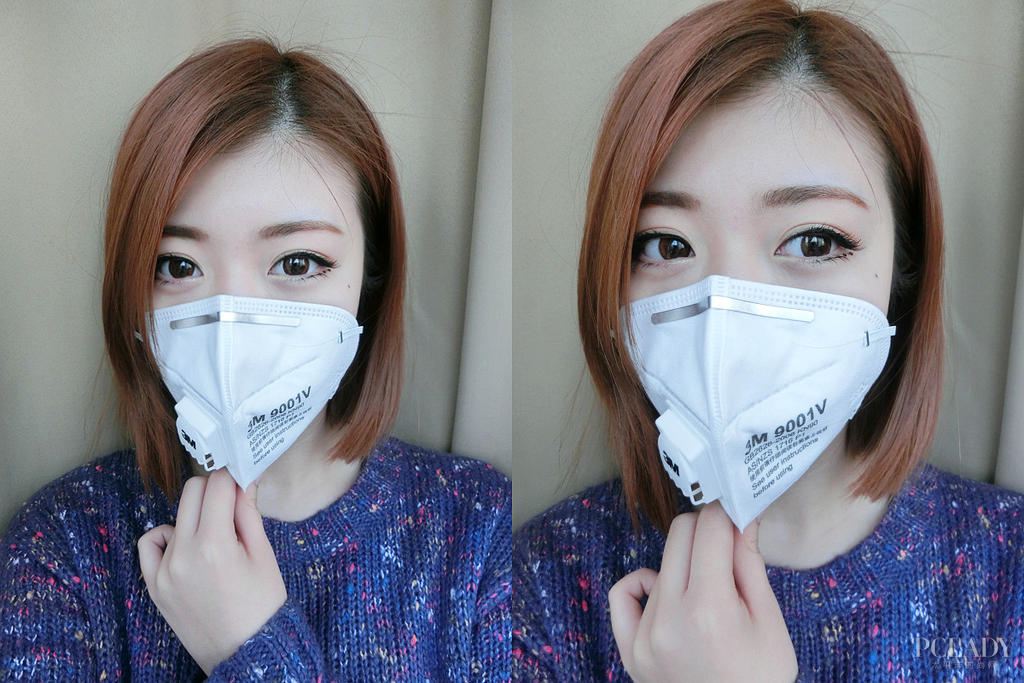face_mask: (620, 101, 893, 487), (145, 139, 363, 462)
